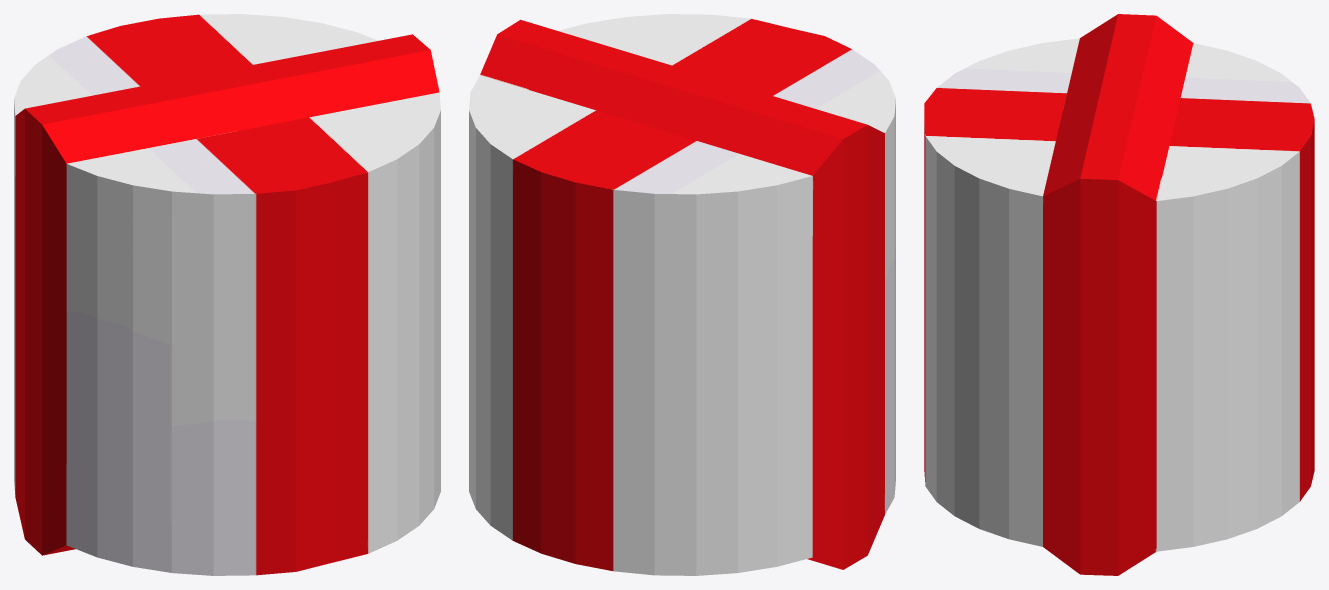
Rendered from powerupcanModel.fbx.
3 renders of one model, left to right at view 1: azimuth 30°, elevation 25°; view 2: azimuth 150°, elevation 25°; view 3: azimuth 270°, elevation 25°, orthographic. The views are drawn at different scales.
Parts seen in each view (by area): view 1: Cylinder; view 2: Cylinder; view 3: Cylinder.
Boxes of the visible parts, x1=… form: Cylinder: x1=14, y1=14, x2=440, y2=575; Cylinder: x1=469, y1=14, x2=895, y2=575; Cylinder: x1=924, y1=14, x2=1314, y2=575.
Bounding box in the file's own units: 116 × 129 × 115.
